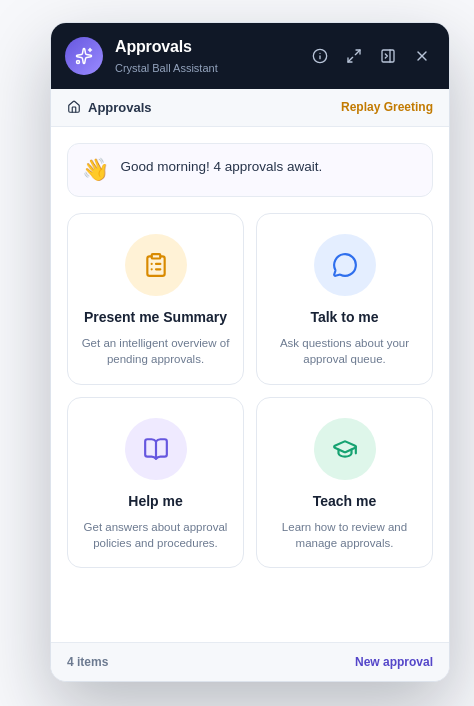
AssistantPanel › Talk to me: chat states › ERROR: an unreachable server shows a friendly alert, never a raw error
The width and height of the screenshot is (474, 706).
Click the button "Talk to me Ask questions about your approval queue.": [344, 299] box left=256, top=213, right=433, bottom=385
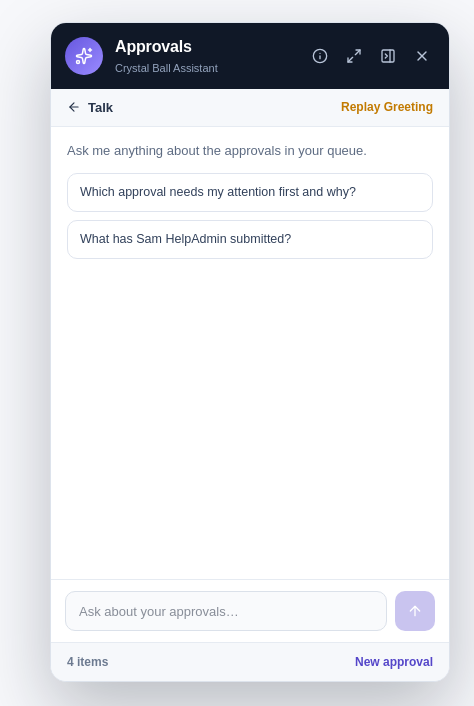
In the field named "message": [226, 611] box left=65, top=591, right=387, bottom=631, type "Hi"
Then press Enter
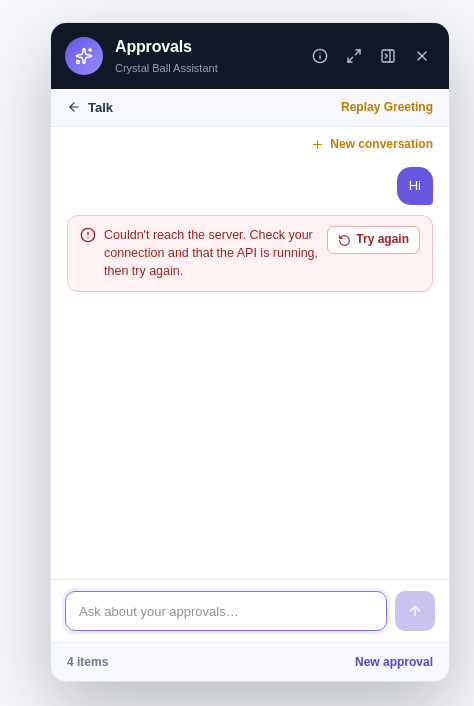
Expected: the message shows "reach the server", left=104, top=228, right=318, bottom=278
